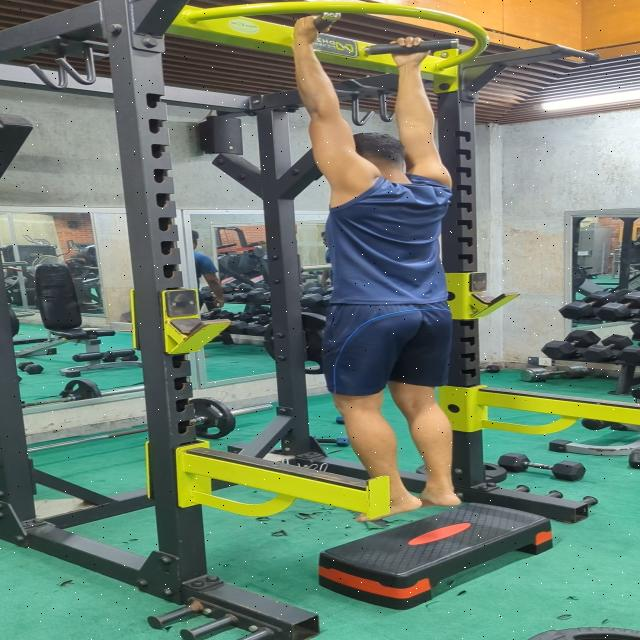Normal_PullUps: (288, 6, 466, 531)
